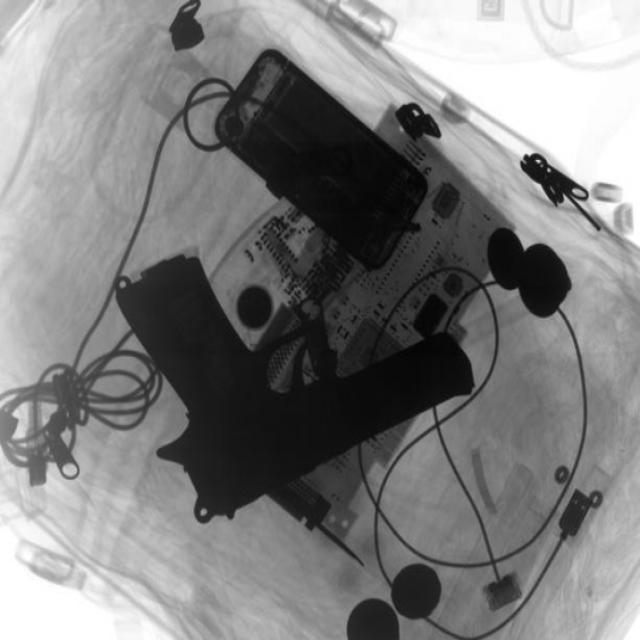GUN: (134, 250, 472, 535)
